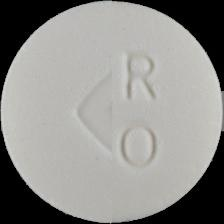16252-524: (0, 0, 224, 224)
